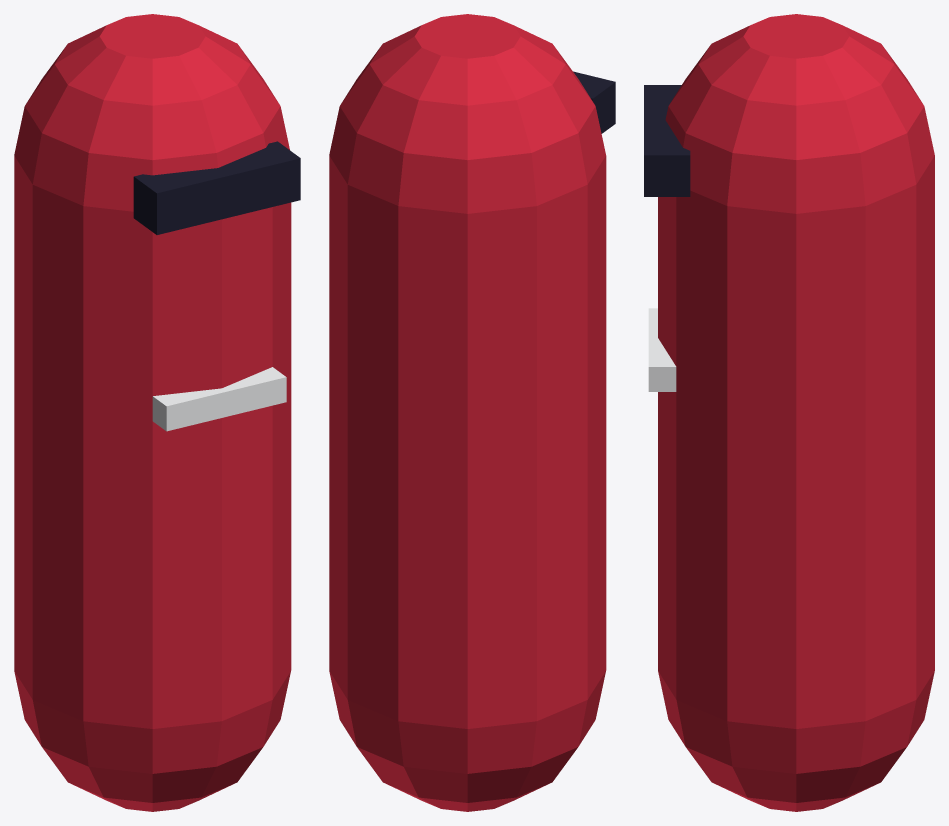
The model's file is char_proto_p1.fbx.
3 renders of one model, left to right at view 1: azimuth 30°, elevation 25°; view 2: azimuth 150°, elevation 25°; view 3: azimuth 270°, elevation 25°, orthographic.
Parts seen in each view (by area): view 1: char_proto_p1; view 2: char_proto_p1; view 3: char_proto_p1.
Boxes of the visible parts, x1,y1,x2,y2 form: char_proto_p1: (14,14,300,811); char_proto_p1: (329,14,615,811); char_proto_p1: (644,14,934,811).
Bounding box in the file's own units: 0.6 × 1.8 × 0.63.
